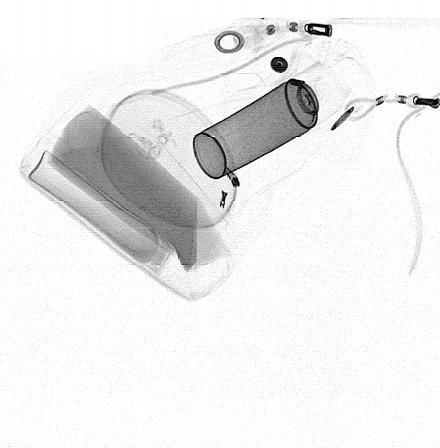Sprayer: (192, 62, 345, 179)
